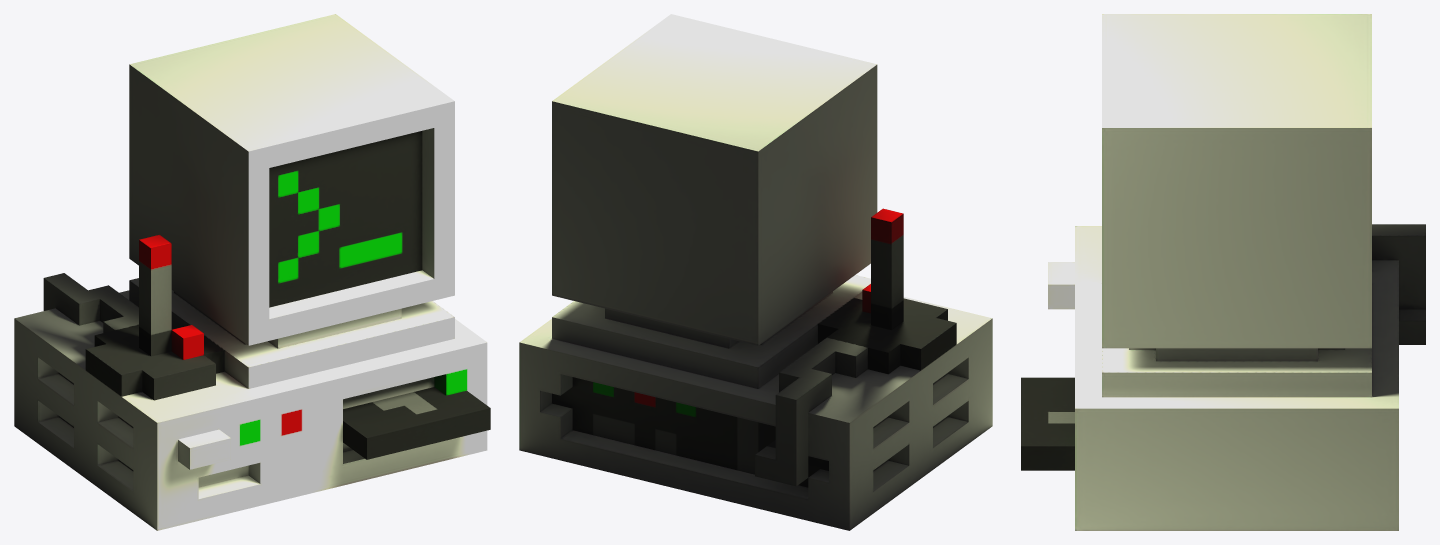
The model's file is retro-computer.glb.
3 renders of one model, left to right at view 1: azimuth 30°, elevation 25°; view 2: azimuth 150°, elevation 25°; view 3: azimuth 270°, elevation 25°, orthographic. The views are drawn at different scales.
Parts seen in each view (by area): view 1: retro-computer; view 2: retro-computer; view 3: retro-computer.
Boxes of the visible parts, bbox=[...] form: retro-computer: bbox=[14, 14, 490, 530]; retro-computer: bbox=[519, 14, 992, 530]; retro-computer: bbox=[1021, 14, 1425, 530].
Size of what is drawn, in the model's own units: 1.6 by 1.6 by 1.5.
Materials: 1 (1 with a texture image).
